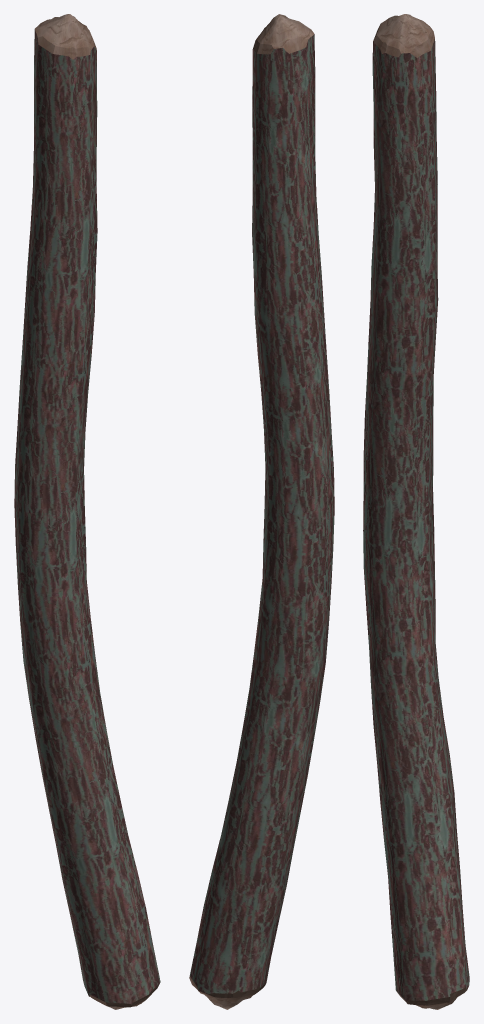
3 views of the same model, side by side, from view 1: azimuth 30°, elevation 25°; view 2: azimuth 210°, elevation 25°; view 3: azimuth 330°, elevation 25° (orthographic).
Parts seen in each view (by area): view 1: SM_MapleTree_01_full_LOD0; view 2: SM_MapleTree_01_full_LOD0; view 3: SM_MapleTree_01_full_LOD0.
Part boxes in pixels (x1,y1,x2,y2): SM_MapleTree_01_full_LOD0: (14, 14, 160, 1009); SM_MapleTree_01_full_LOD0: (189, 14, 334, 1009); SM_MapleTree_01_full_LOD0: (363, 14, 469, 1009).
Size of the model in its own units: 0.8978 by 7.31 by 0.7171.
